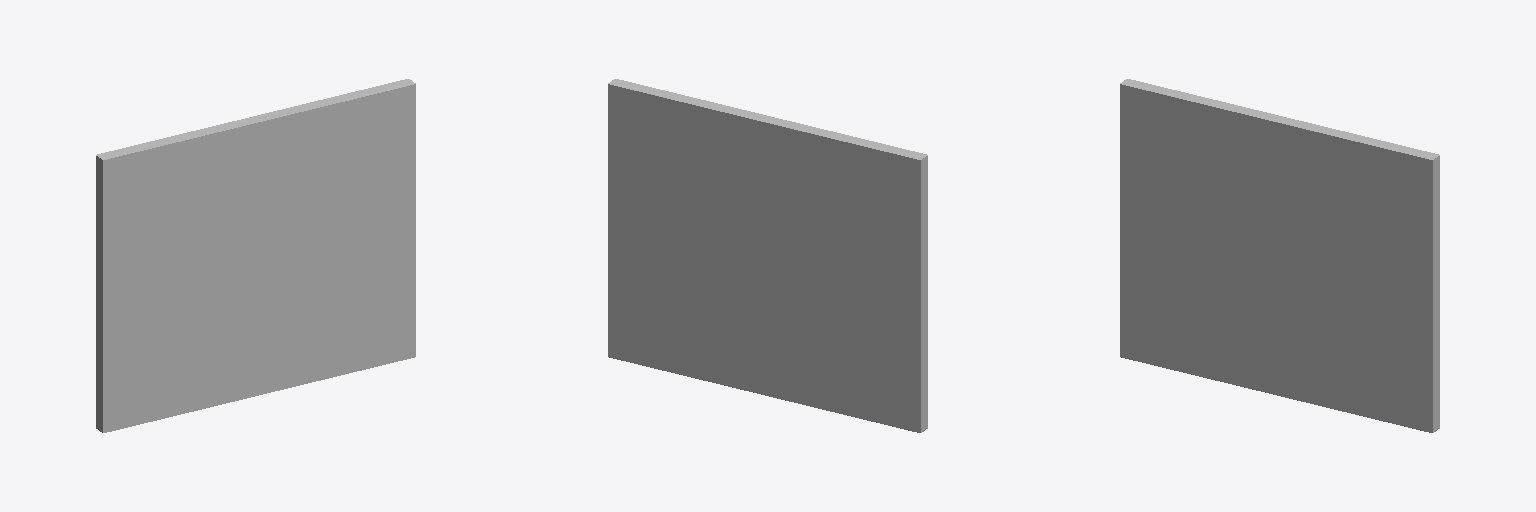
Rendered from frame.obj.
3 views of the same model, side by side, from view 1: azimuth 30°, elevation 25°; view 2: azimuth 150°, elevation 25°; view 3: azimuth 330°, elevation 25° (orthographic).
Parts seen in each view (by area): view 1: object 1; view 2: object 1; view 3: object 1.
Part boxes in pixels (x1,y1,x2,y2): object 1: (96,79,415,432); object 1: (608,79,927,432); object 1: (1120,79,1439,432).
Size of the model in its own units: 2.4 by 2 by 0.1.